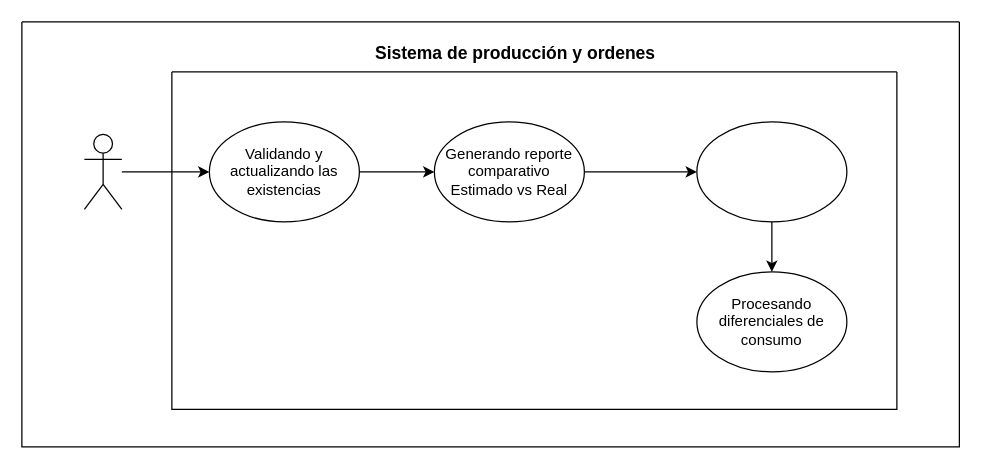
Some shapes in this 981 by 469 pixel diagram are drawn without their labels. The shapes that lost their labels are listed below. From the top down, each one's centre as x and y in pixels, then its label:
At pixel 102 171: "Sistema".
At pixel 771 171: "Consolidando costos por orden de trabajo".
